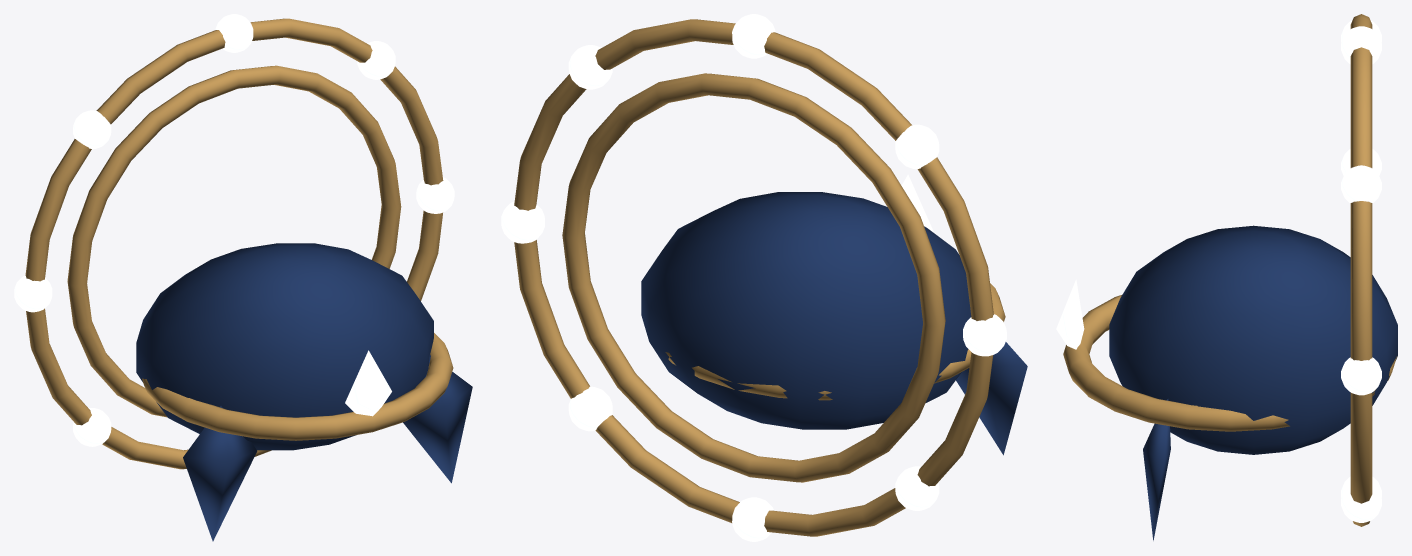
File: boss_thunder_abbot_helm.glb
The picture shows the model from 3 angles, left to right: view 1: azimuth 30°, elevation 25°; view 2: azimuth 150°, elevation 25°; view 3: azimuth 270°, elevation 25°; orthographic projection. The views are drawn at different scales.
Visible parts, largest first — view 1: Boss_thunder_abbot_0, Boss_thunder_abbot_1, Boss_thunder_abbot_2; view 2: Boss_thunder_abbot_0, Boss_thunder_abbot_1, Boss_thunder_abbot_2; view 3: Boss_thunder_abbot_0, Boss_thunder_abbot_1, Boss_thunder_abbot_2.
Boxes of the visible parts, bbox=[...] form: Boss_thunder_abbot_0: bbox=[136, 243, 472, 541]; Boss_thunder_abbot_1: bbox=[25, 18, 453, 469]; Boss_thunder_abbot_2: bbox=[14, 14, 454, 446]; Boss_thunder_abbot_0: bbox=[641, 192, 1027, 455]; Boss_thunder_abbot_1: bbox=[514, 19, 1005, 536]; Boss_thunder_abbot_2: bbox=[501, 14, 1006, 541]; Boss_thunder_abbot_0: bbox=[1109, 225, 1397, 540]; Boss_thunder_abbot_1: bbox=[1063, 14, 1396, 526]; Boss_thunder_abbot_2: bbox=[1056, 20, 1381, 522].
Size of the model in its own units: 0.6932 by 0.694 by 0.4432.
